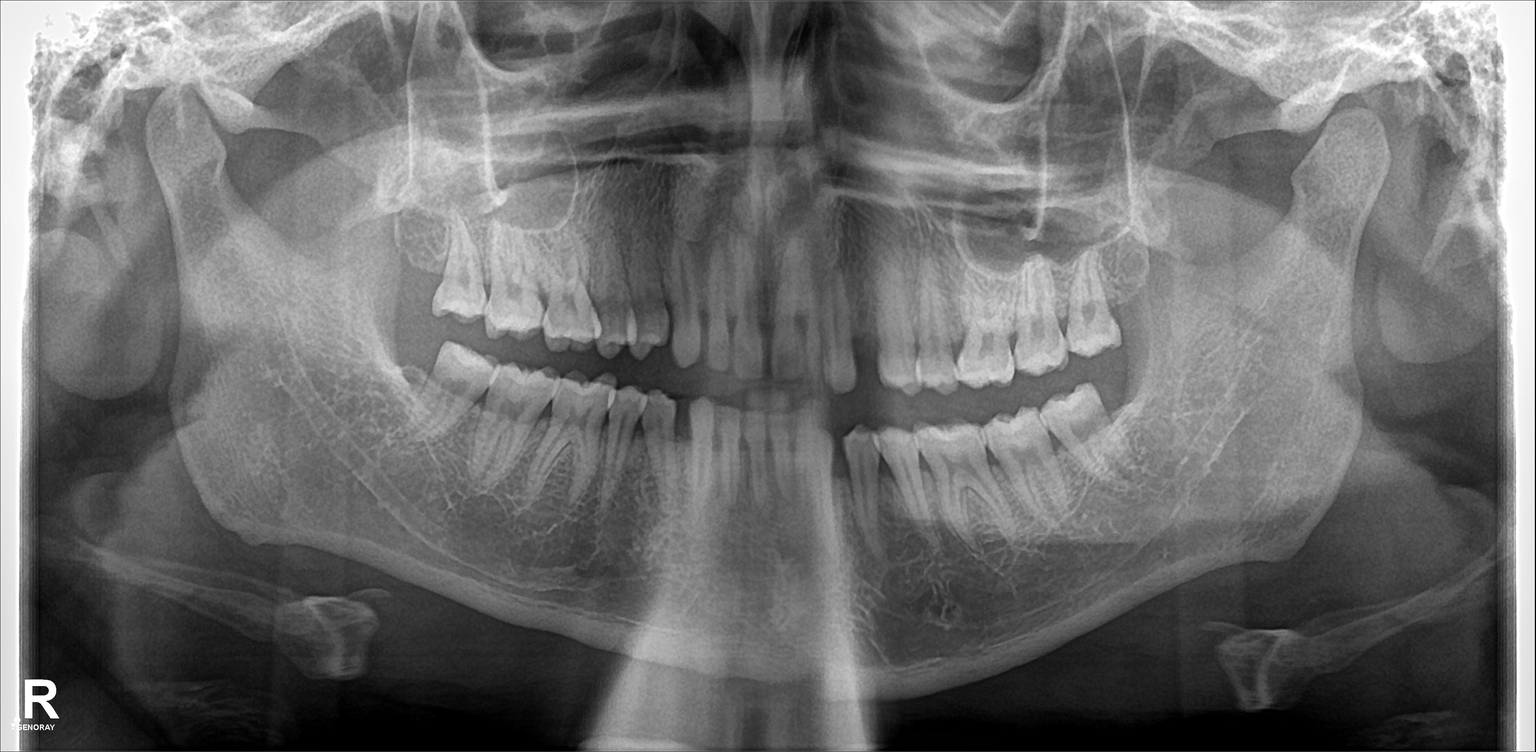Missing Tooth: (387, 210, 445, 314), (854, 259, 887, 390), (1106, 238, 1143, 341), (387, 331, 429, 419), (1104, 372, 1141, 450)
